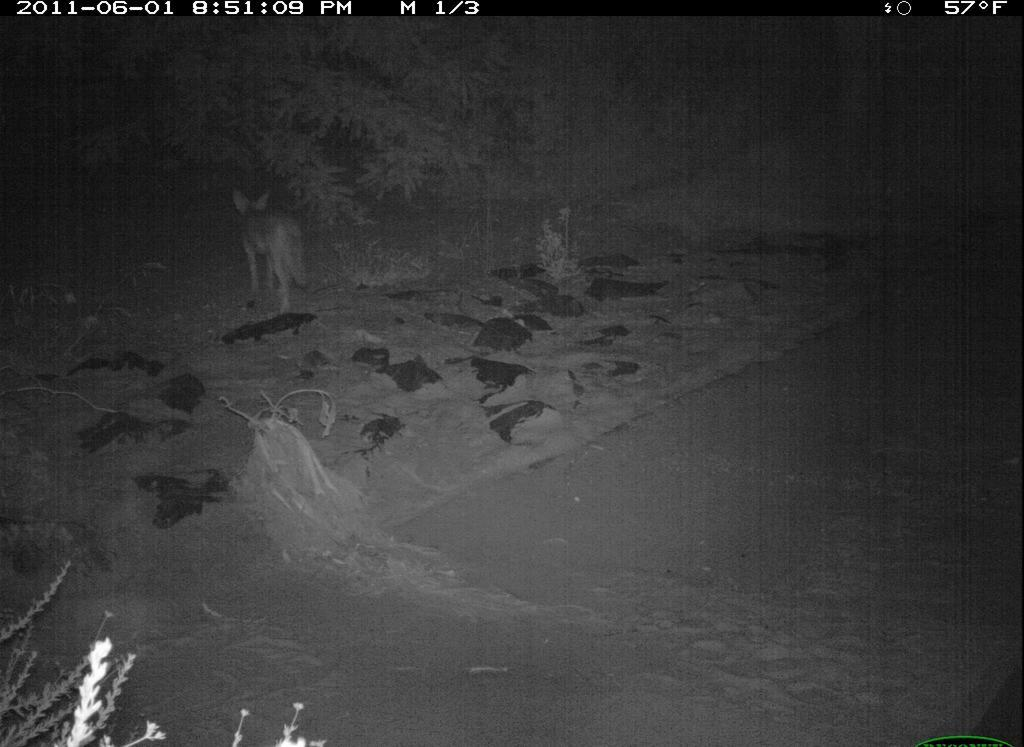coyote: (223, 181, 326, 323)
